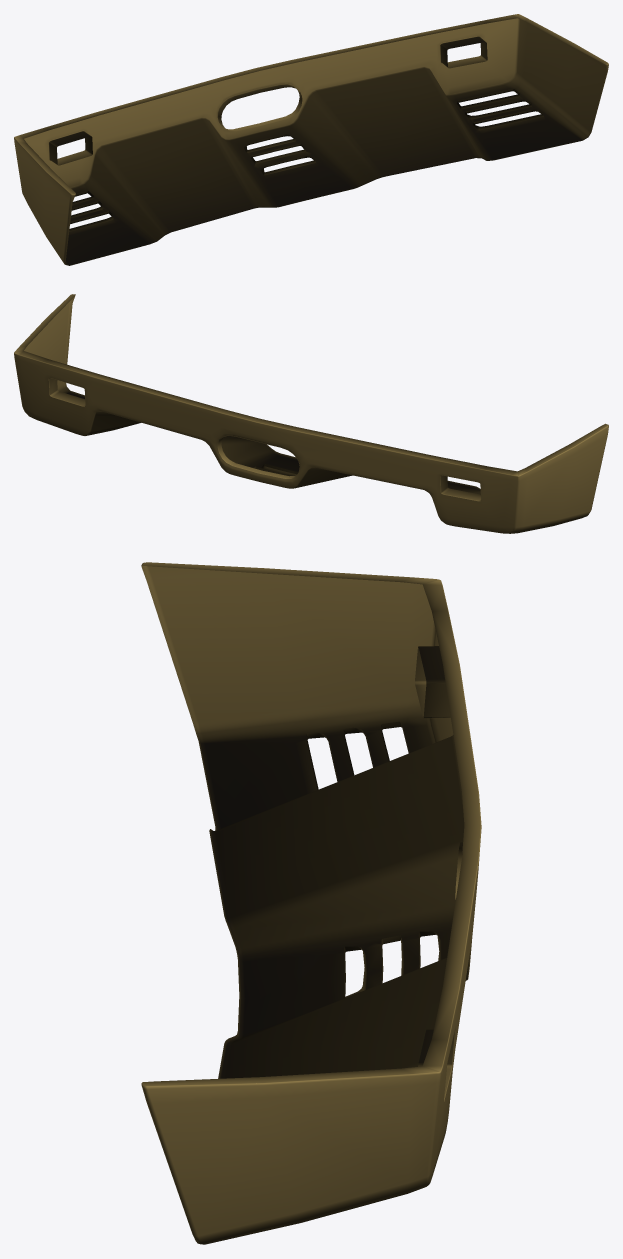
The model's file is F40_RB01_Duco.fbx.
3 views of the same model, one above another, from view 1: azimuth 30°, elevation 25°; view 2: azimuth 150°, elevation 25°; view 3: azimuth 270°, elevation 25° (orthographic). The views are drawn at different scales.
Parts seen in each view (by area): view 1: F40_RB01_Duco; view 2: F40_RB01_Duco; view 3: F40_RB01_Duco.
Part boxes in pixels (bbox=[...]): F40_RB01_Duco: bbox=[14, 14, 608, 265]; F40_RB01_Duco: bbox=[14, 294, 608, 533]; F40_RB01_Duco: bbox=[141, 562, 481, 1244].
Size of the model in its own units: 184 by 28.46 by 50.31.
